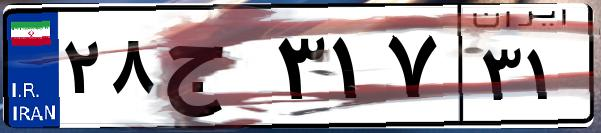1: (330, 28, 385, 110), (525, 38, 570, 115)
2: (57, 26, 110, 100)
3: (270, 28, 330, 110), (475, 38, 525, 113)
7: (385, 28, 445, 110)
8: (110, 28, 158, 98)
ج: (158, 20, 270, 120)
